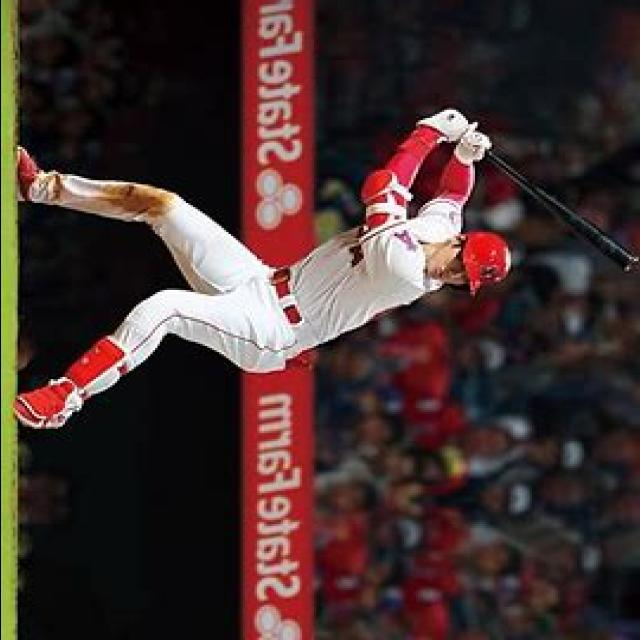bat: (480, 145, 640, 278)
